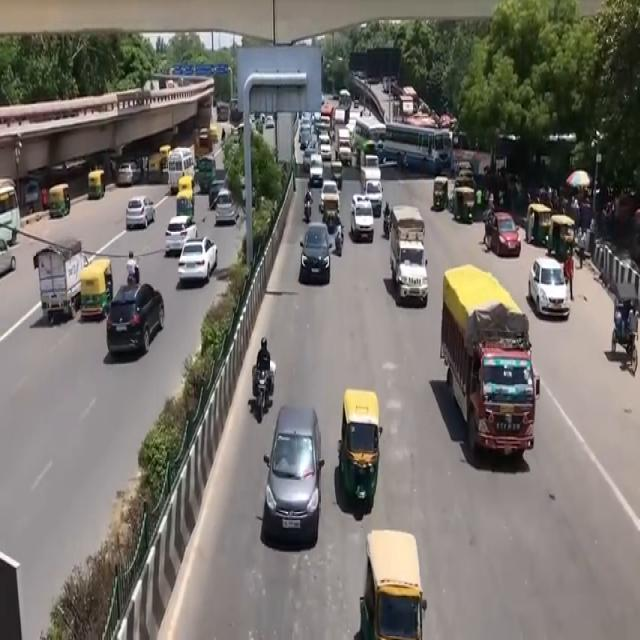BUS: (382, 120, 453, 174)
MOTORCYCLE: (255, 366, 274, 422)
TRUCK: (438, 268, 534, 465), (39, 240, 84, 323), (0, 181, 20, 249)
